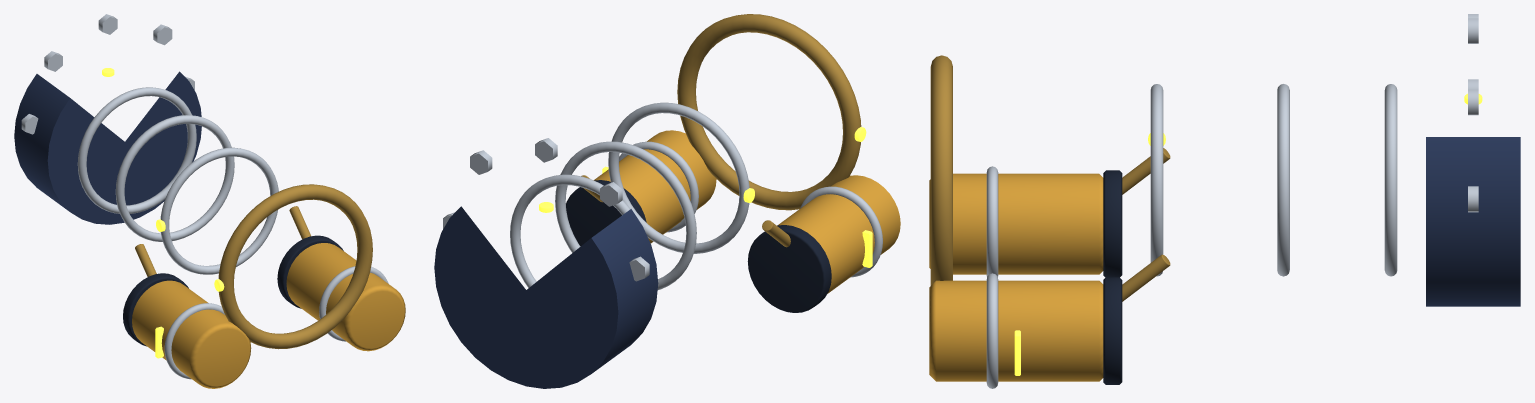
Rendered from tower_nova_damage_s5.glb.
The picture shows the model from 3 angles, left to right: view 1: azimuth 30°, elevation 25°; view 2: azimuth 150°, elevation 25°; view 3: azimuth 270°, elevation 25°; orthographic projection. The views are drawn at different scales.
Visible parts, largest first — view 1: nova_brake_shroud, nova_napalm_can_r, nova_pressure_ring, nova_napalm_can_l, nova_tube_band1.02, nova_tube_band1.36, nova_tube_band0.62, nova_brake_shroud_bolts, nova_napalm_cap_l, nova_napalm_cap_r, nova_napalm_strap_r, nova_napalm_strap_l (+2 smaller); view 2: nova_brake_shroud, nova_pressure_ring, nova_napalm_can_r, nova_napalm_cap_r, nova_napalm_can_l, nova_tube_band0.62, nova_tube_band1.02, nova_napalm_cap_l, nova_tube_band1.36, nova_brake_shroud_bolts, nova_napalm_strap_r, nova_napalm_strap_l; view 3: nova_napalm_can_l, nova_brake_shroud, nova_napalm_can_r, nova_pressure_ring, nova_tube_band1.36, nova_tube_band1.02, nova_tube_band0.62, nova_napalm_cap_l, nova_napalm_cap_r, nova_napalm_strap_l, nova_napalm_strap_r, nova_brake_shroud_bolts (+2 smaller).
Boxes of the visible parts, x1,y1,x2,y2 form: nova_brake_shroud: (14,71,201,224); nova_napalm_can_r: (132,280,251,388); nova_pressure_ring: (218,184,372,349); nova_napalm_can_l: (286,243,405,351); nova_tube_band1.02: (115,115,234,241); nova_tube_band1.36: (77,87,196,213); nova_tube_band0.62: (160,147,278,274); nova_brake_shroud_bolts: (21,14,194,134); nova_napalm_cap_l: (277,235,343,308); nova_napalm_cap_r: (123,273,188,346); nova_napalm_strap_r: (164,303,224,379); nova_napalm_strap_l: (319,266,388,341); nova_brake_shroud: (434,206,658,388); nova_pressure_ring: (677,14,861,210); nova_napalm_can_r: (777,175,900,293); nova_napalm_cap_r: (747,225,831,312); nova_napalm_can_l: (593,130,716,243); nova_tube_band0.62: (608,102,749,253); nova_tube_band1.02: (555,141,696,289); nova_napalm_cap_l: (566,180,646,246); nova_tube_band1.36: (510,174,630,287); nova_brake_shroud_bolts: (443,138,649,281); nova_napalm_strap_r: (800,186,882,277); nova_napalm_strap_l: (619,141,698,232); nova_napalm_can_l: (929,280,1103,381); nova_brake_shroud: (1426,137,1520,306); nova_napalm_can_r: (929,173,1103,274); nova_pressure_ring: (930,55,952,285); nova_tube_band1.36: (1384,84,1397,276); nova_tube_band1.02: (1277,84,1289,276); nova_tube_band0.62: (1150,84,1163,276); nova_napalm_cap_l: (1103,277,1122,384); nova_napalm_cap_r: (1103,170,1122,277); nova_napalm_strap_l: (986,273,998,388); nova_napalm_strap_r: (986,166,998,277); nova_brake_shroud_bolts: (1468,14,1478,212).
Bounding box in the file's own units: 1.17 × 1.09 × 1.87.
